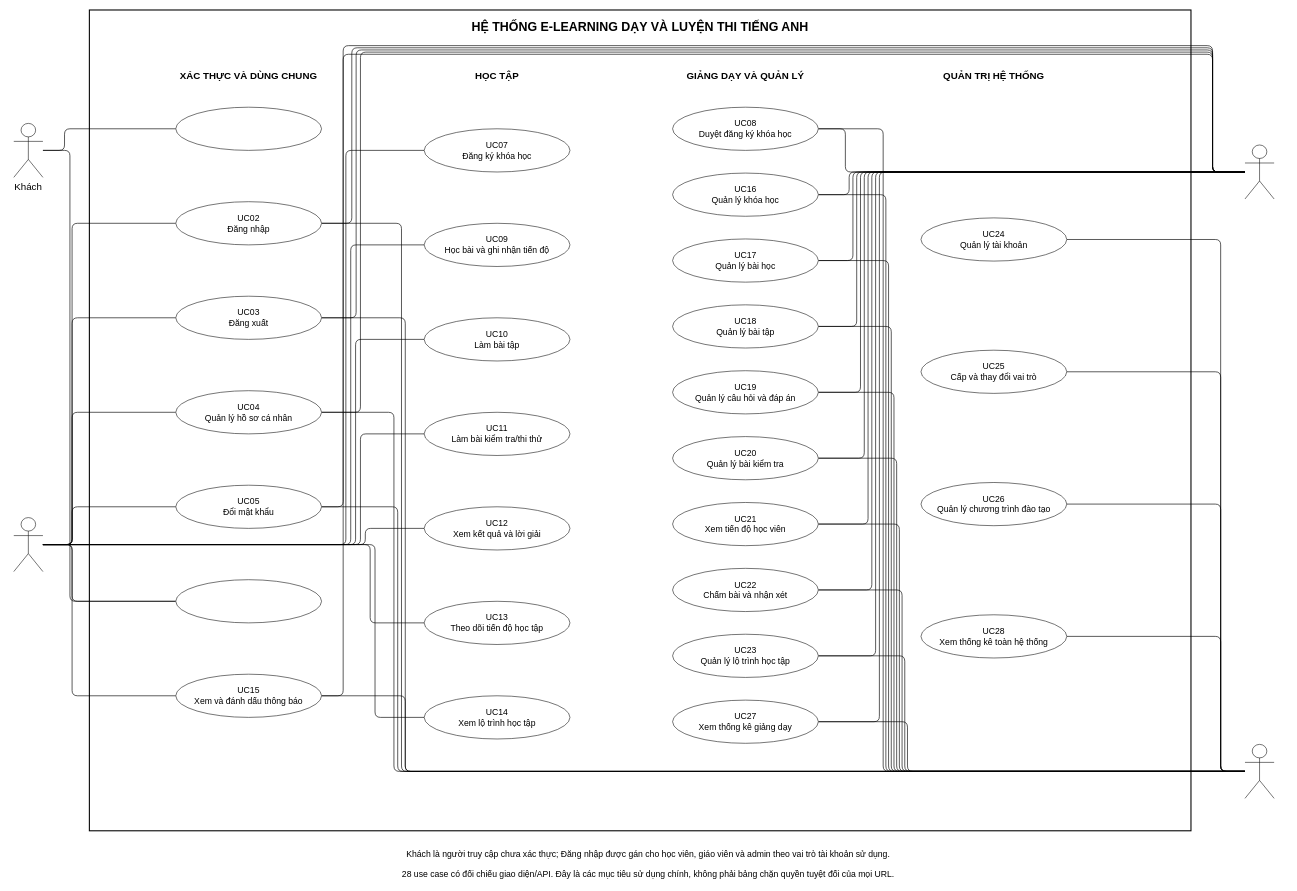
Image size: 1297x891. Some labels were removed from this diagram. The shapes that lost their labels are listed below. From the top down, each one's box as (x1, y1, x2, y2) in pixels, then its label:
(175, 107, 322, 150): UC01 Đăng ký tài khoản
(1244, 144, 1274, 199): Giáo viên
(13, 517, 43, 572): Học viên
(175, 579, 322, 623): UC06 Tra cứu khóa học
(1244, 744, 1274, 798): Quản trị viên
